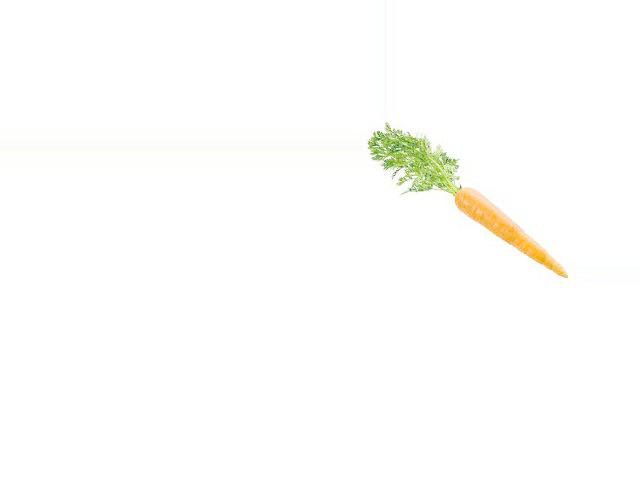carrot: (452, 184, 570, 286)
